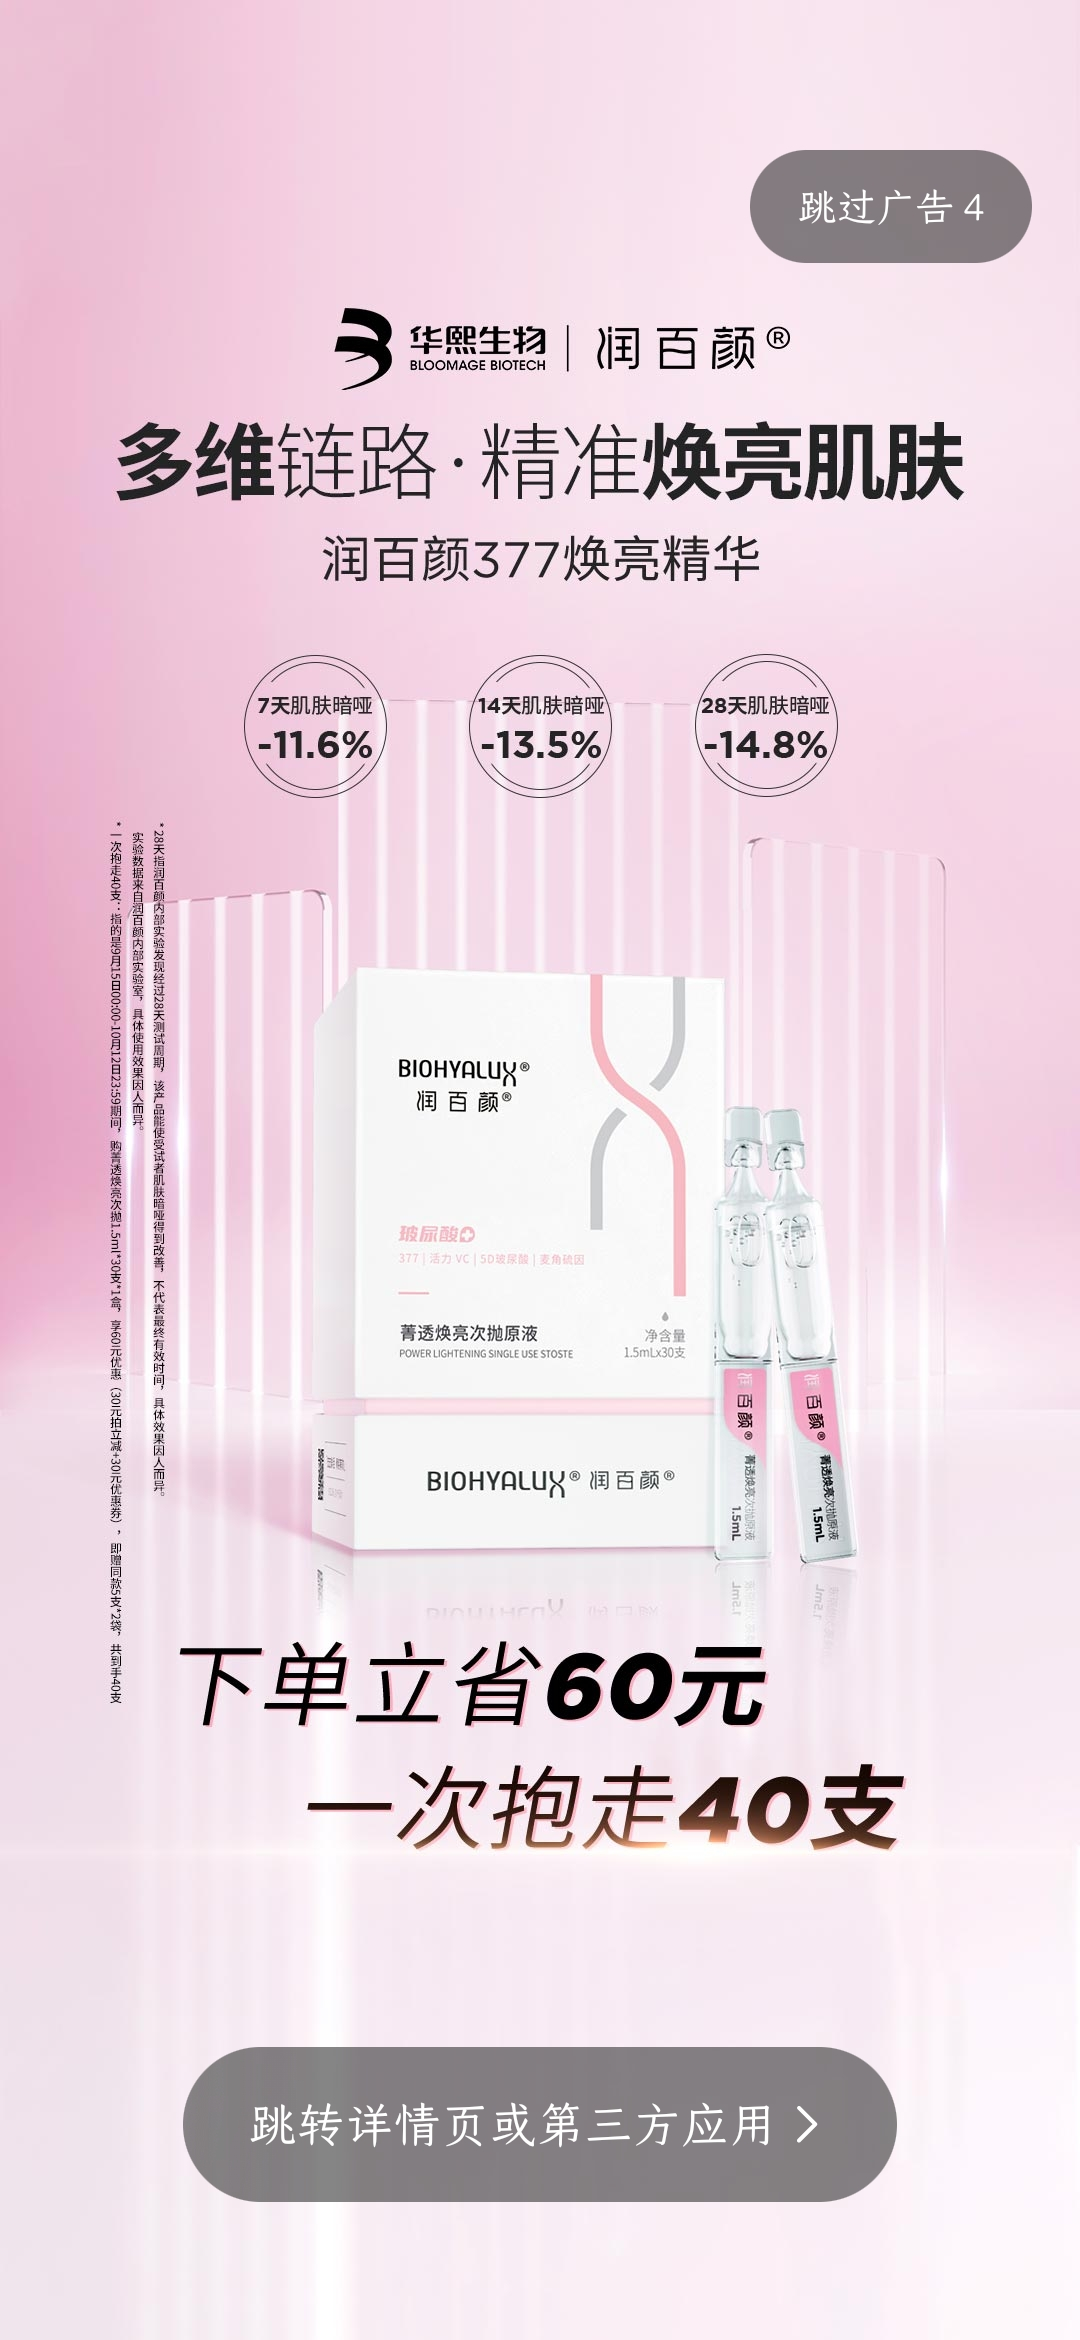skip: (773, 151, 1017, 257)
